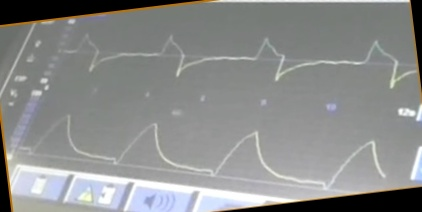Flow: (65, 28, 416, 88)
Leakage Volume: (20, 112, 386, 191)
